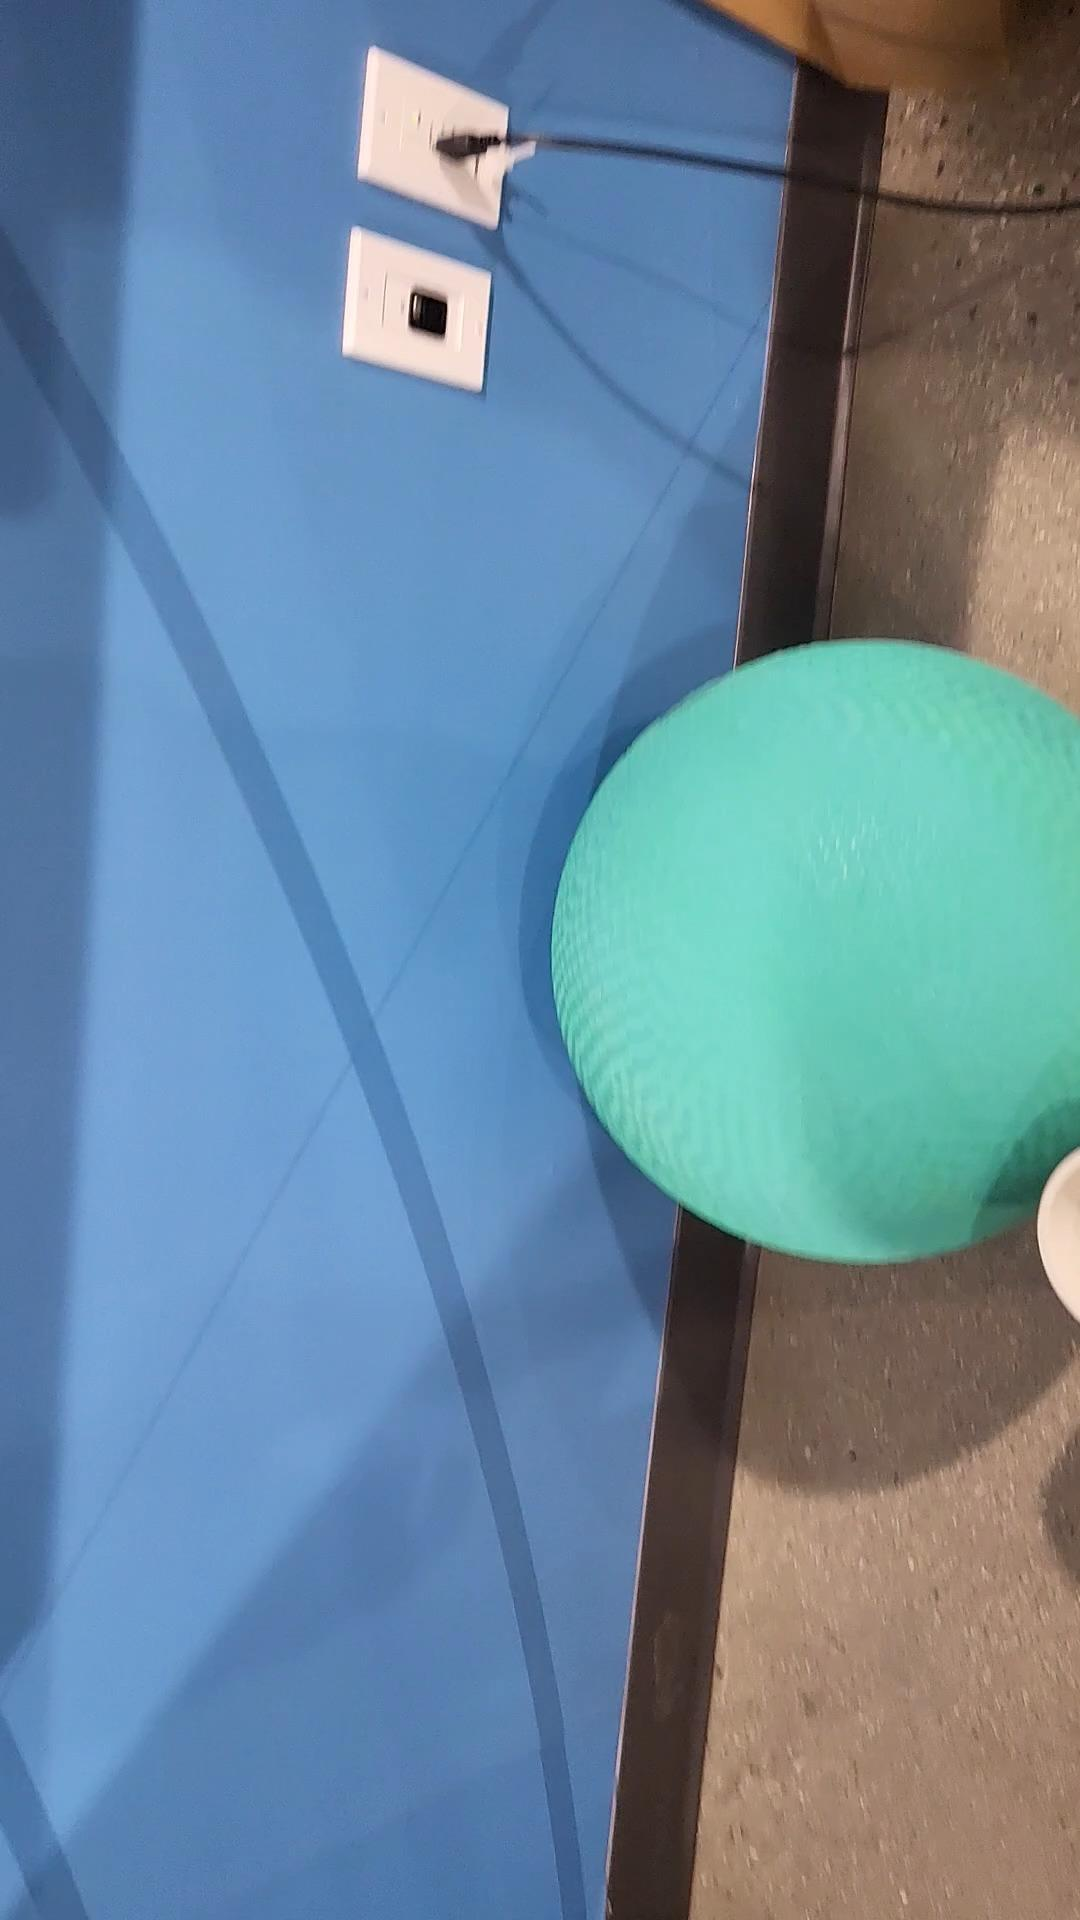algae: (553, 635, 1080, 1265)
coral: (1038, 1132, 1079, 1325)
